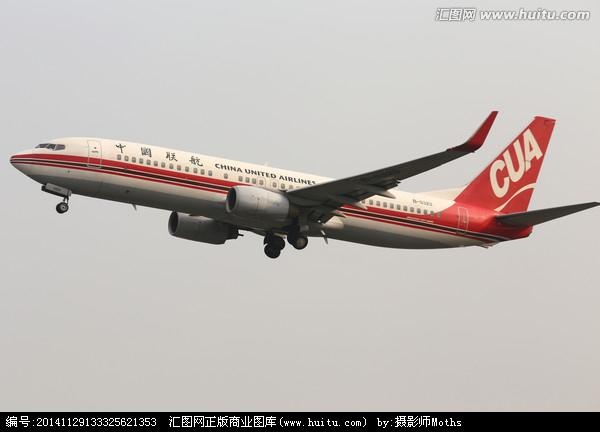airplane: (9, 109, 600, 260)
